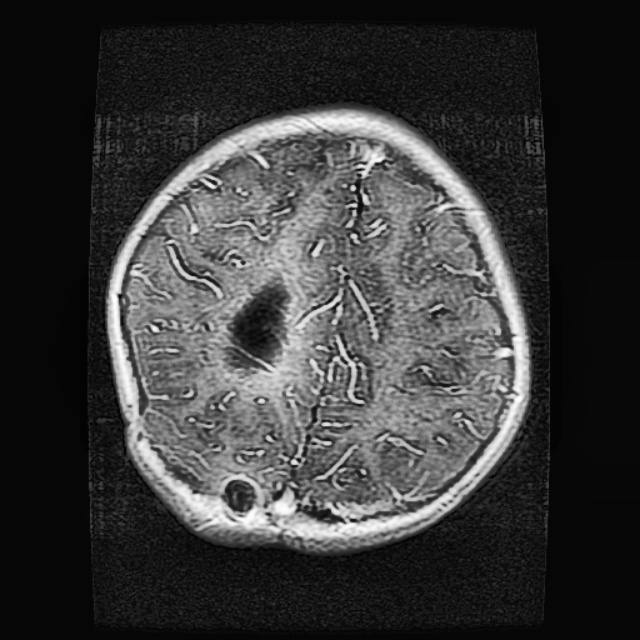Glioma: (227, 275, 295, 380)
